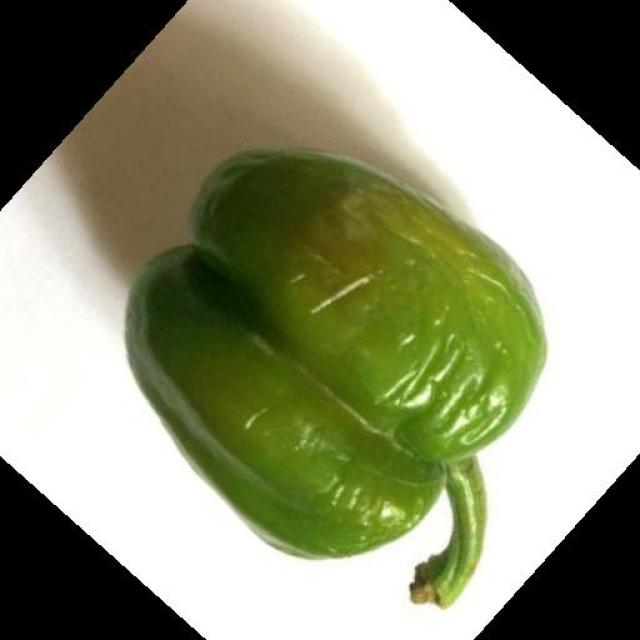Stale_Capsicum: (122, 155, 541, 629)
